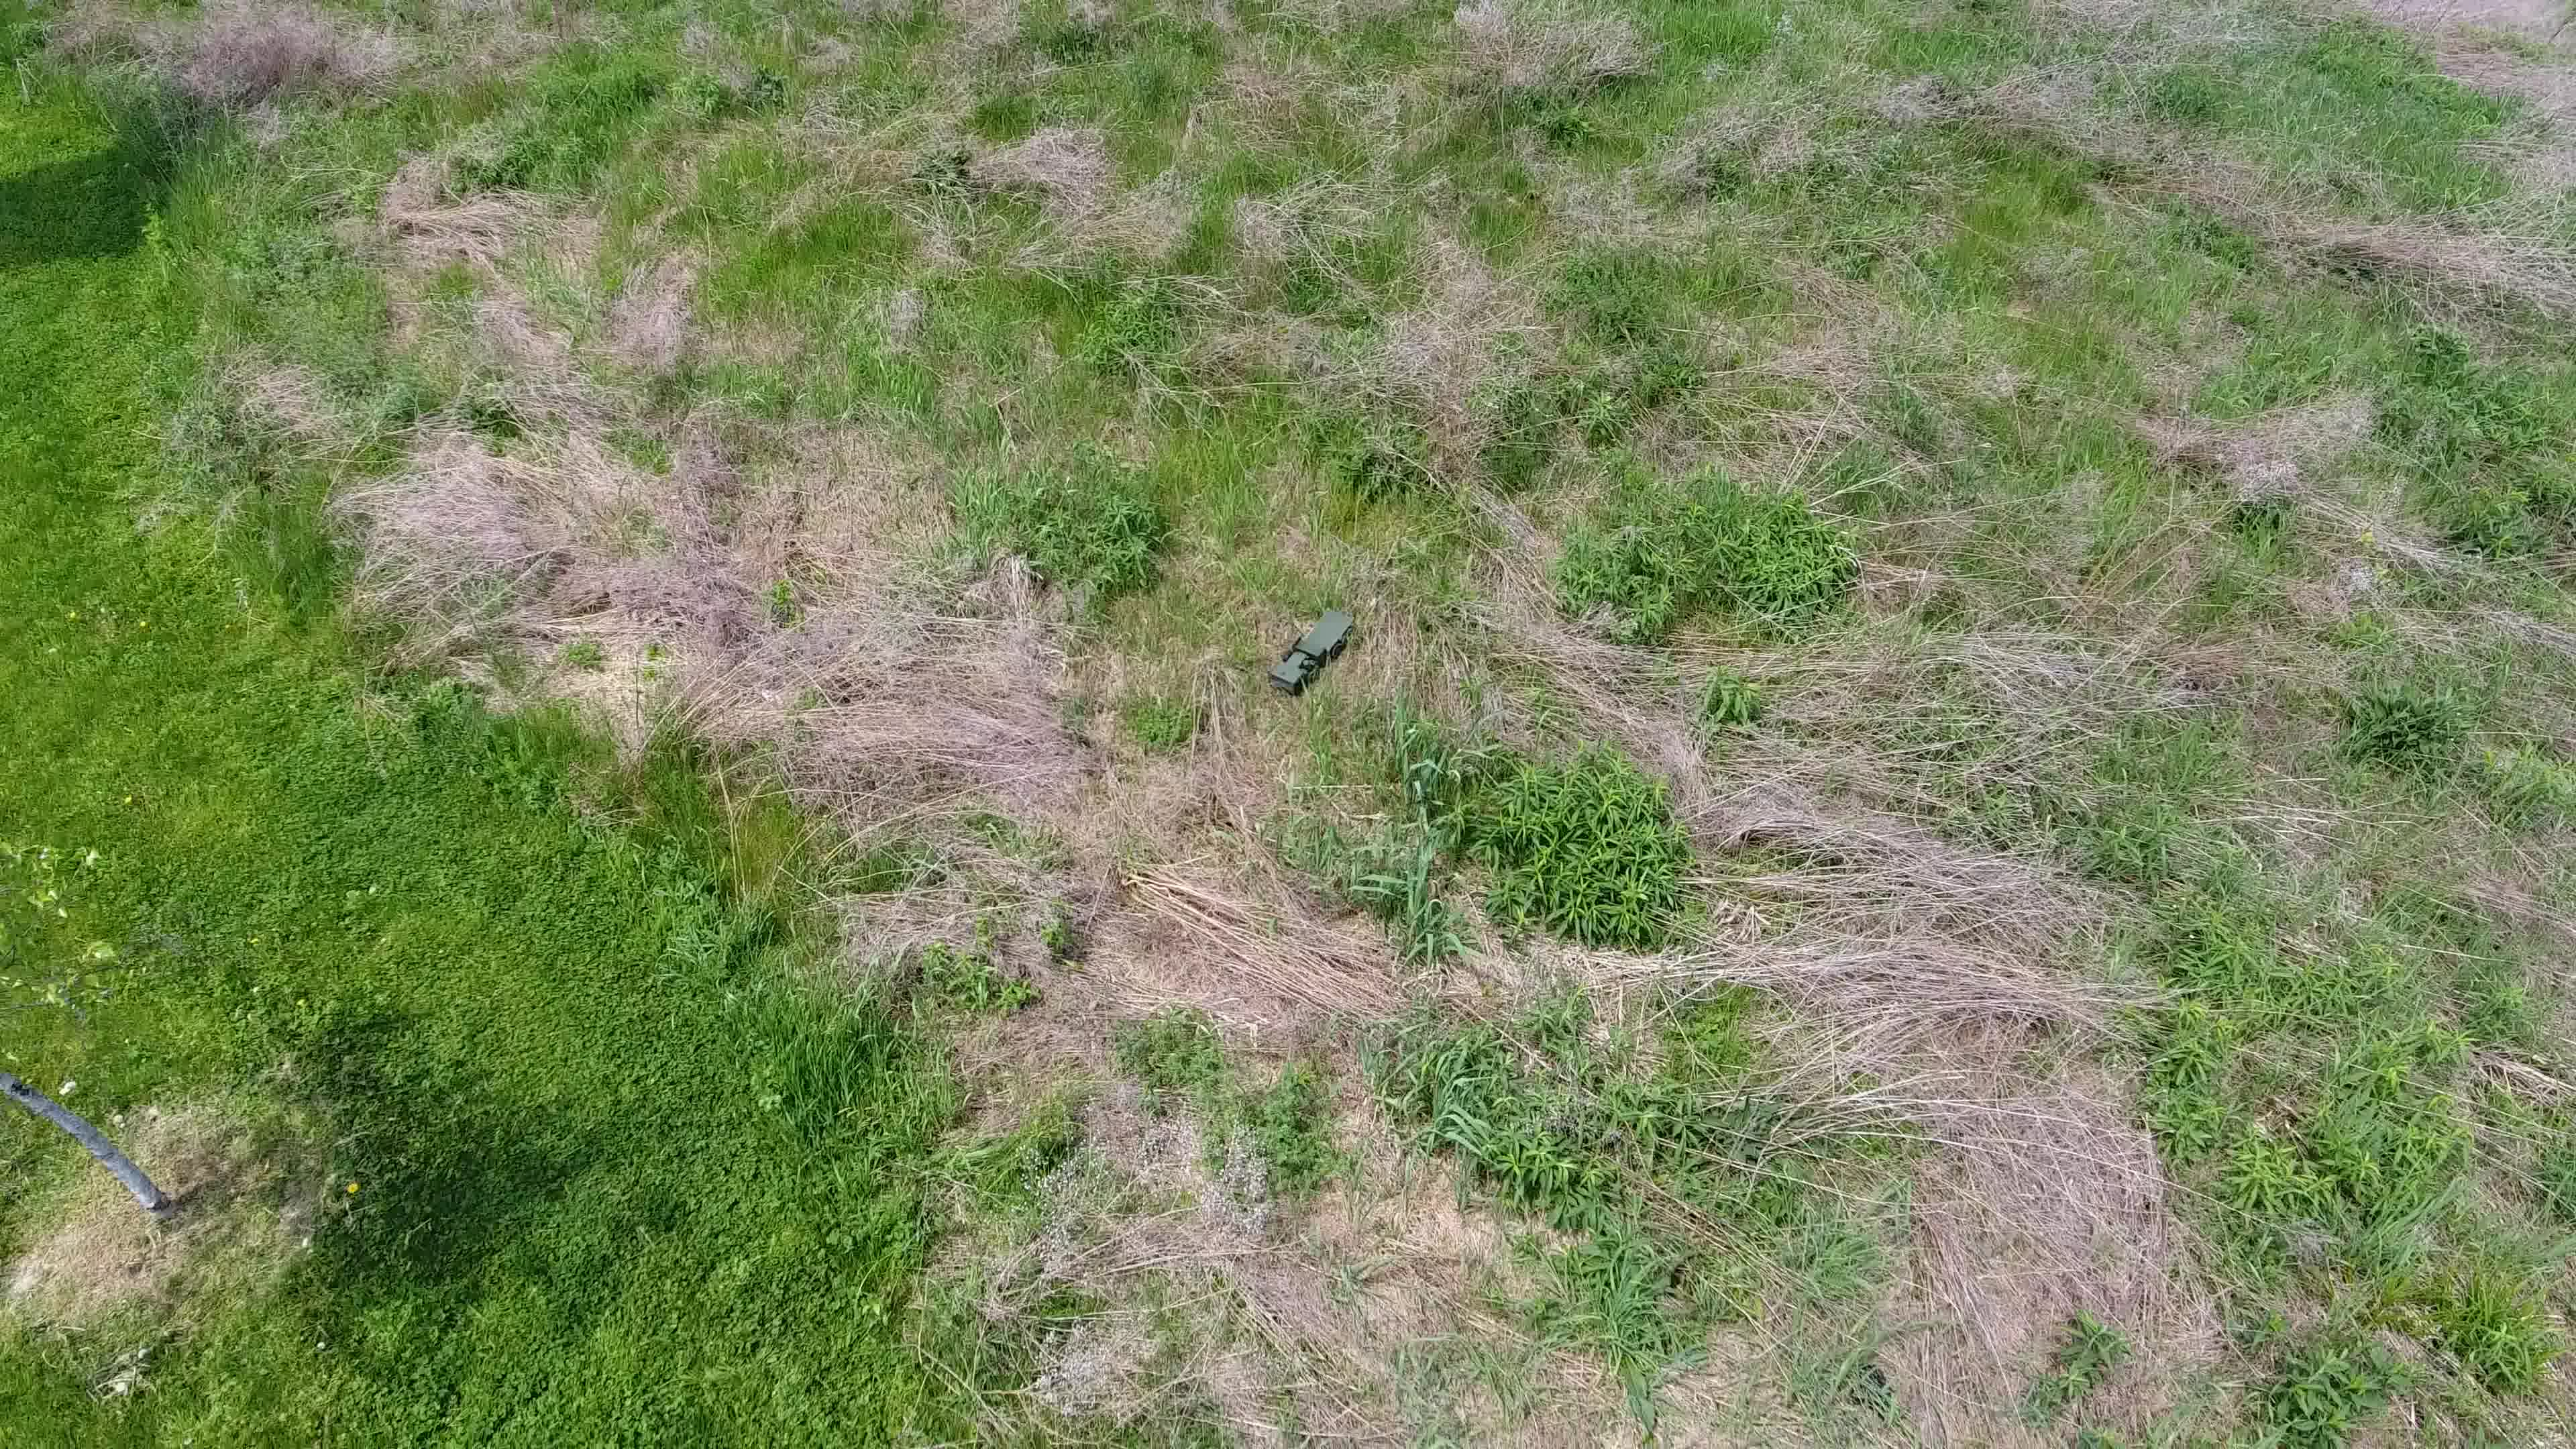transporter9: (1263, 602, 1357, 699)
